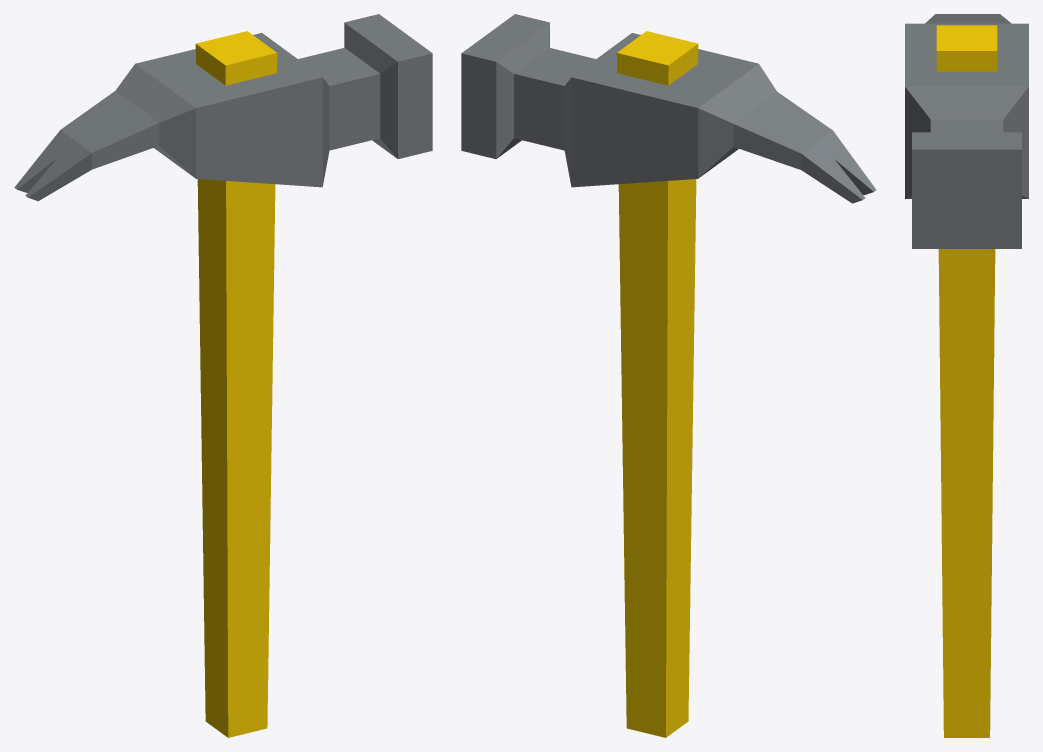
The model's file is nail hammer.fbx.
The picture shows the model from 3 angles, left to right: view 1: azimuth 30°, elevation 25°; view 2: azimuth 150°, elevation 25°; view 3: azimuth 270°, elevation 25°; orthographic projection.
Parts seen in each view (by area): view 1: Cube; view 2: Cube; view 3: Cube.
Boxes of the visible parts, x1,y1,x2,y2 form: Cube: [14, 14, 432, 737]; Cube: [461, 14, 876, 737]; Cube: [905, 14, 1028, 737].
Size of the model in its own units: 20.99 by 35.42 by 5.77.
